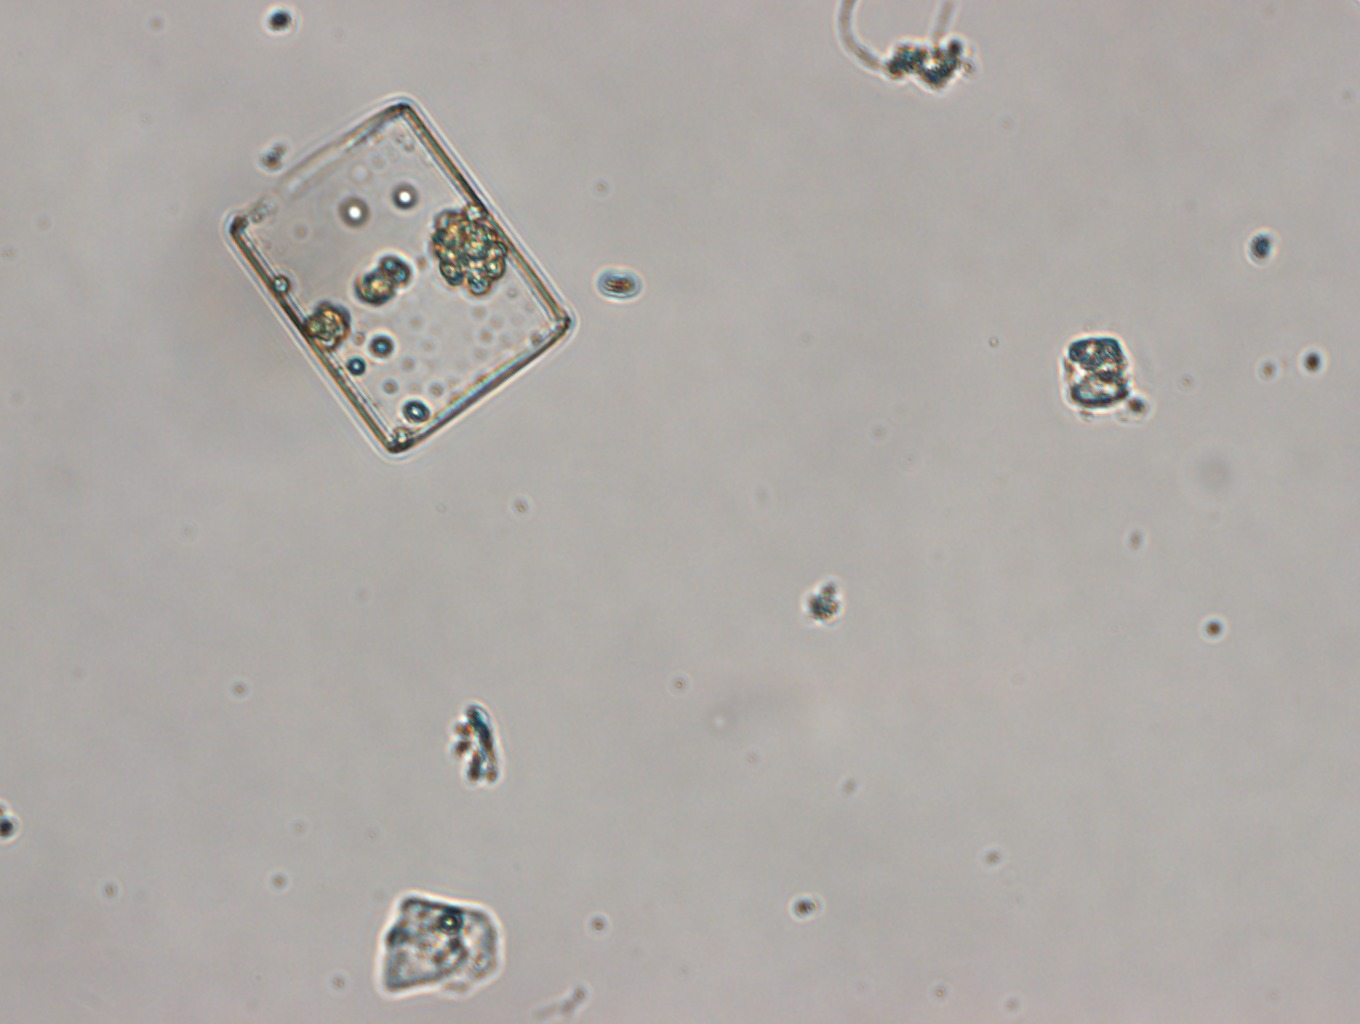guinardia flaccida: (229, 96, 571, 455)
